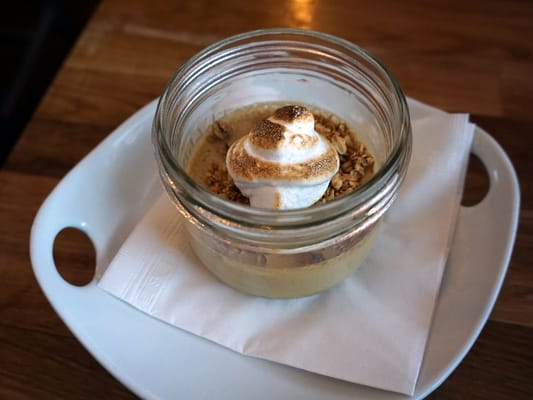pizza: (152, 26, 413, 300)
